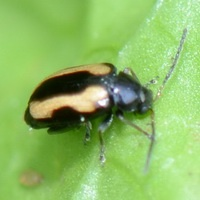insect: (24, 63, 154, 171)
